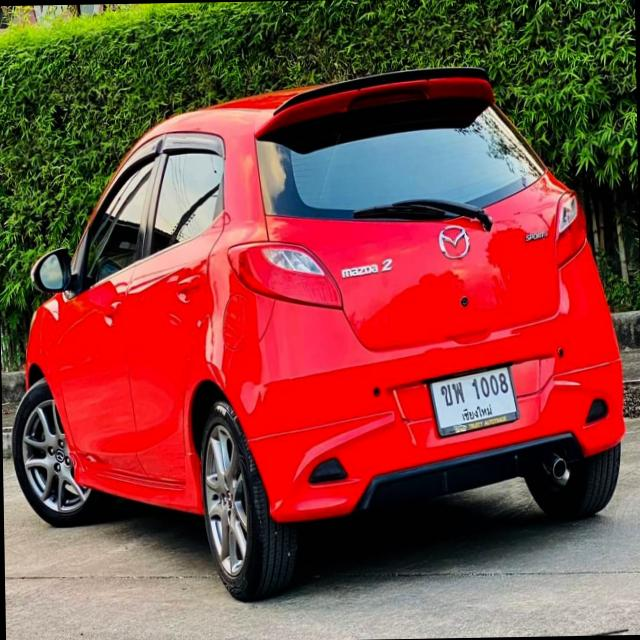license_plate: (424, 360, 522, 441)
